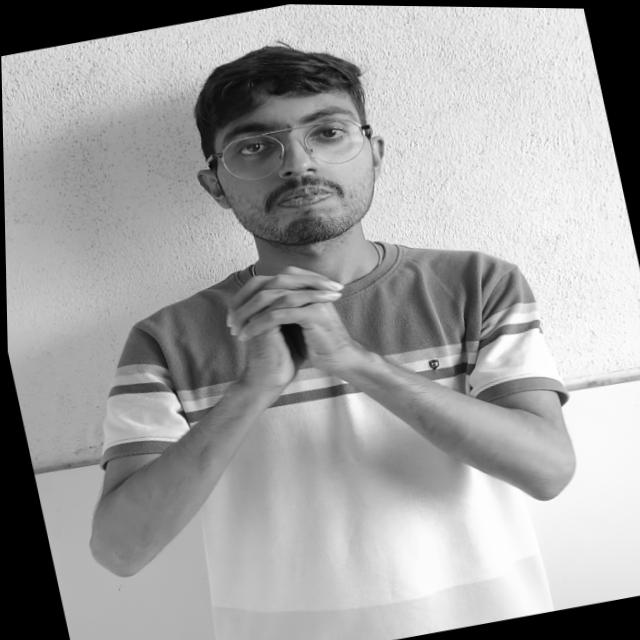Sorry: (182, 225, 412, 424)
